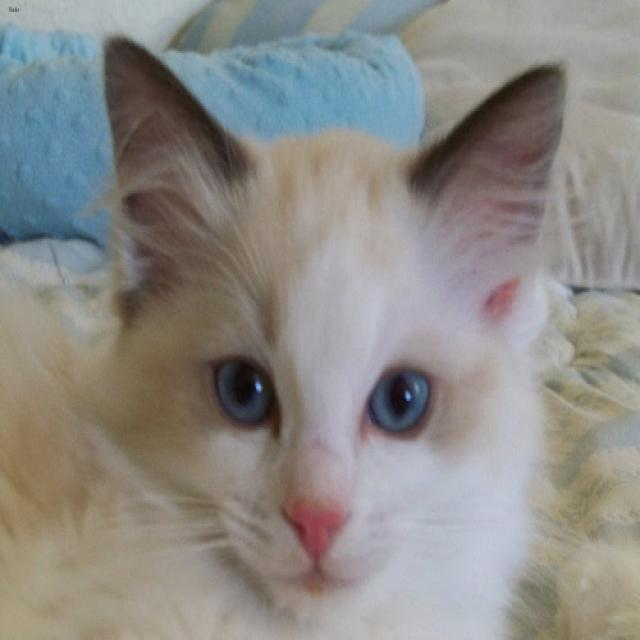Ragdoll: (93, 29, 569, 631)
